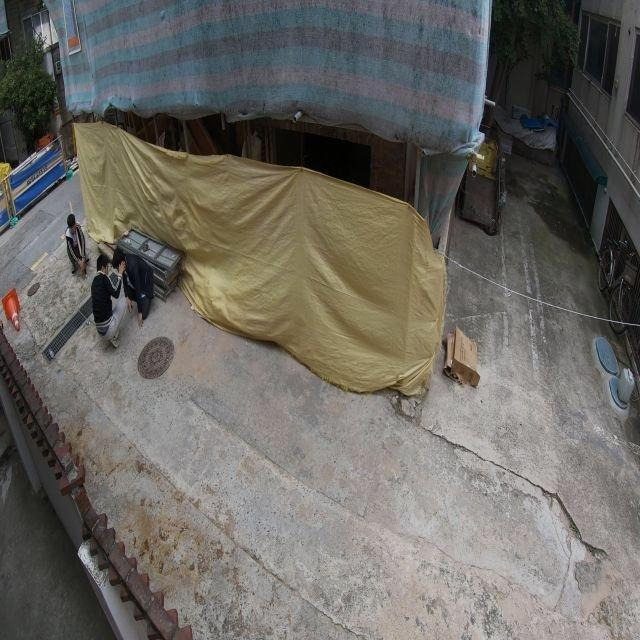fight: (90, 245, 155, 349)
non-fight: (65, 214, 89, 279)
